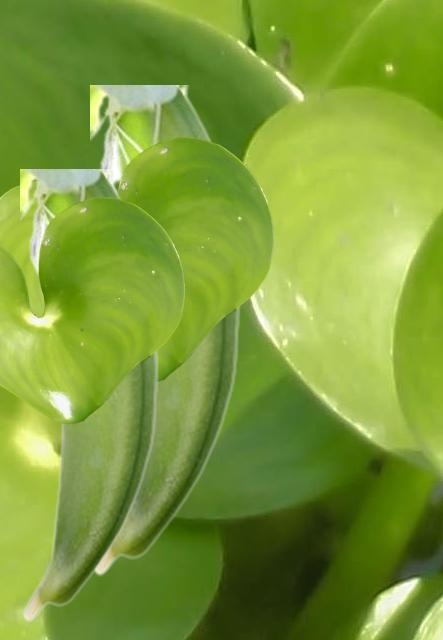pea: (90, 85, 243, 575), (20, 169, 161, 621)
